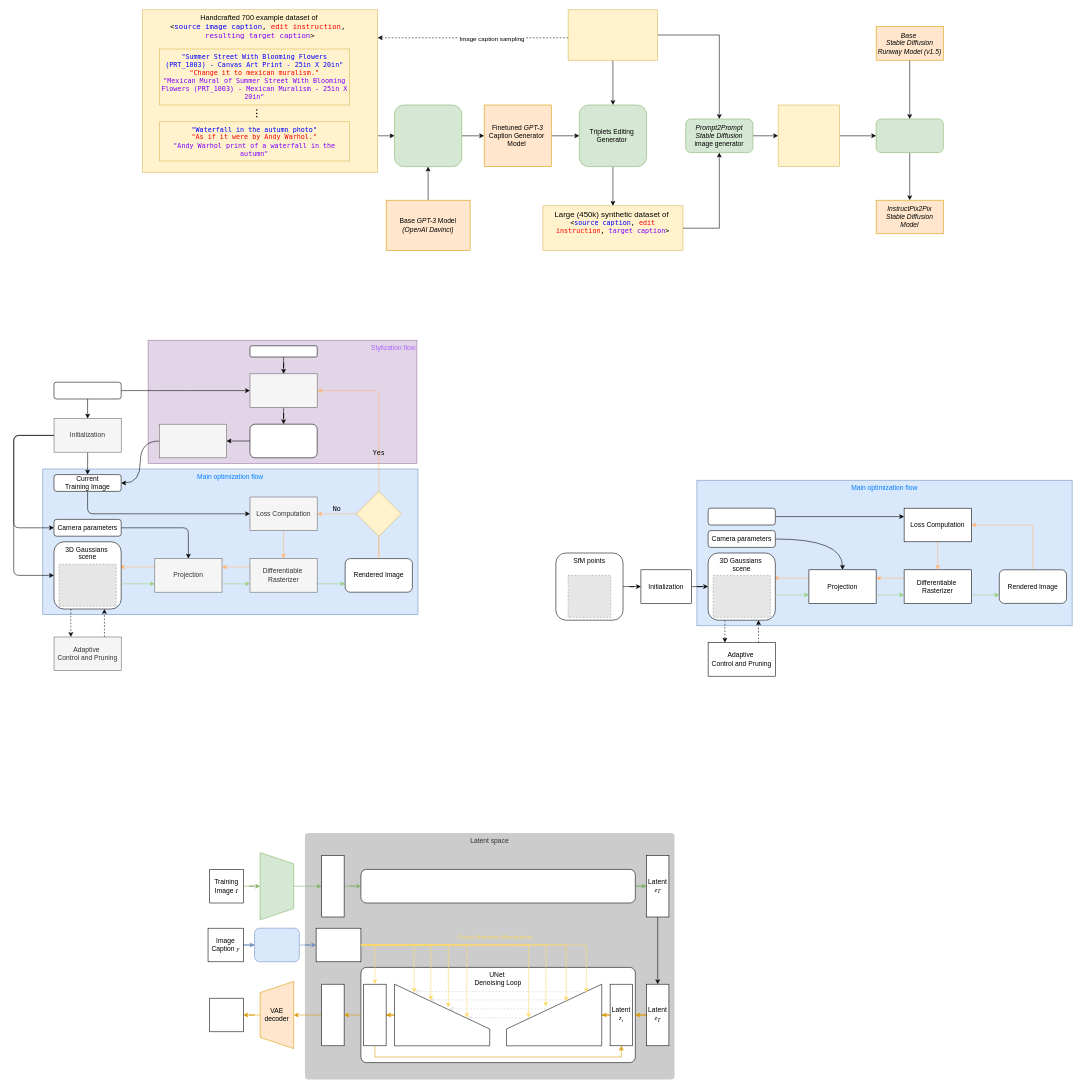
This 1082x1089 diagram has some shape labels left out. Grey dashed boxes stand in for pictures. The shapes that lost their labels are listed below. From the top down, each one's centre as x and y in pixels, then its label:
At (613,34): "LAION Improved Aesthetics 6.5+ dataset < source image , source caption >".
At (428,135): "GPT-3 Finetuning".
At (809,135): "Synthetic Dataset of < source image , target image >".
At (909,135): "Finetuning".
At (283,351): "Text Prompt".
At (87,390): "Original Training Image".
At (283,390): "Stylization InstructPix2Pix".
At (193,441): "Training Dataset Update".
At (283,441): "Stylized Image".
At (378,513): "i%2500 == 0 ?".
At (741,516): "Training Image".
At (277,886): "VAE encoder".
At (332,886): "Latent z 0".
At (497,886): "Diffusion Process".
At (276,945): "Text encoder".
At (338,945): "Text Embeddings".
At (226,1015): "Generated Image I'".
At (332,1015): "Latent z' 0".
At (374,1015): "Latent z t-1".
